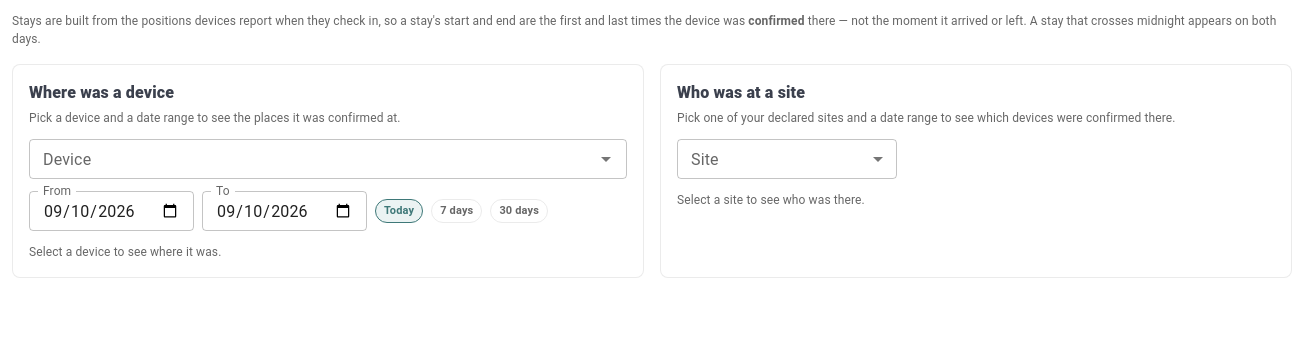
Test: LocationExplorer › ⚠️ un recorte del servidor se dice: 'las N más recientes', no 'esto es todo'
Press ArrowDown in the dropdown labelled "Device", box [35,145,588,173]
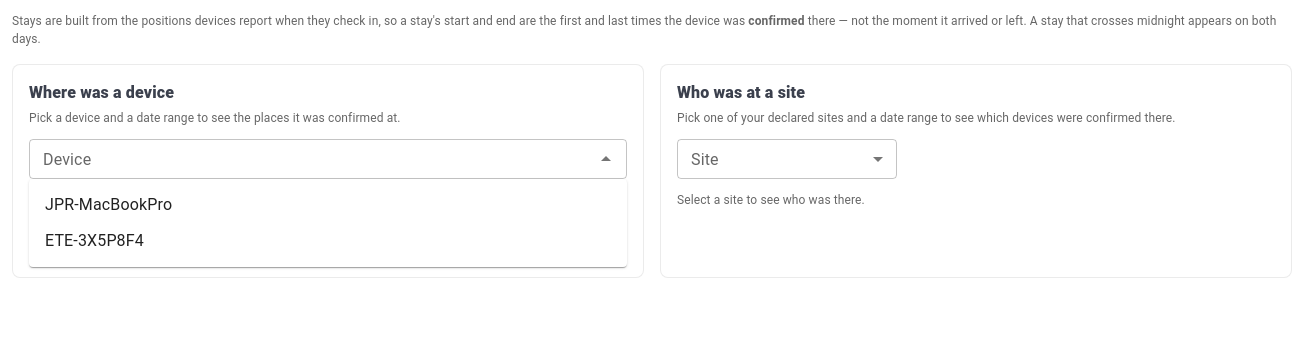
Click the option "ETE-3X5P8F4" at (94, 240), box [45,231,144,250]
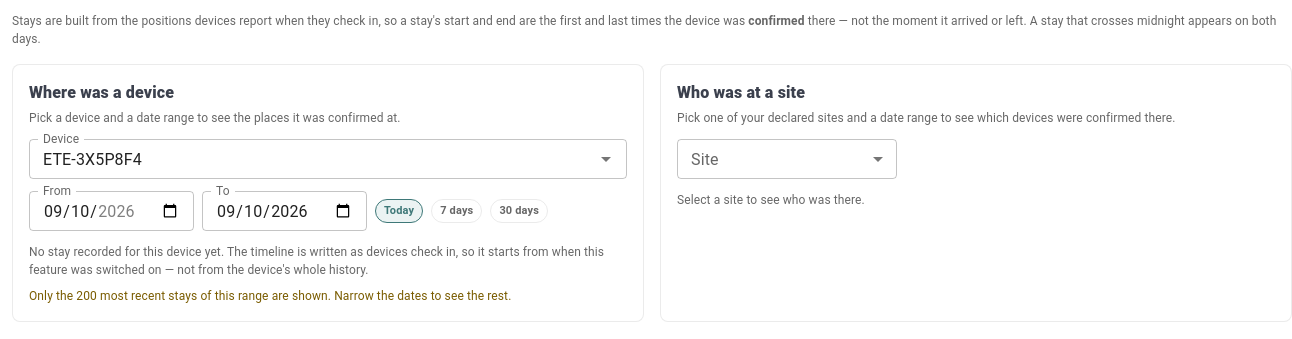
expect the text "Only the 200 most recent stays" is shown: met, box [29,289,511,303]
